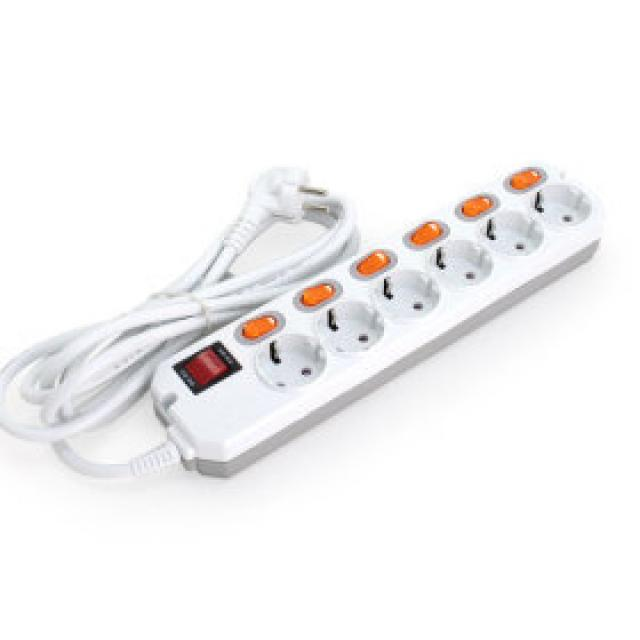typeb: (162, 150, 622, 476)
